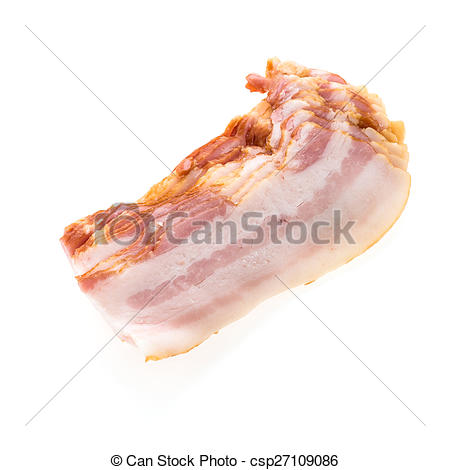bacon: (65, 53, 400, 346)
